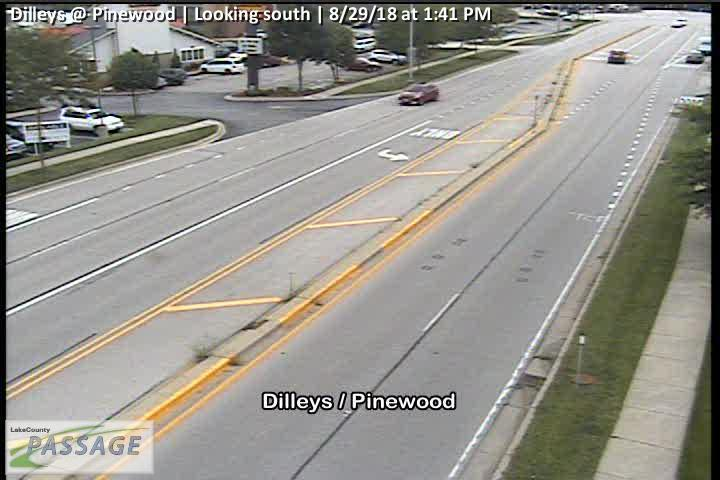SUV: (398, 82, 439, 105), (200, 57, 245, 74), (369, 50, 408, 65), (353, 39, 378, 51), (697, 37, 712, 55)
Sedan: (58, 105, 124, 134), (344, 57, 381, 72), (608, 51, 626, 65), (687, 50, 704, 63)
